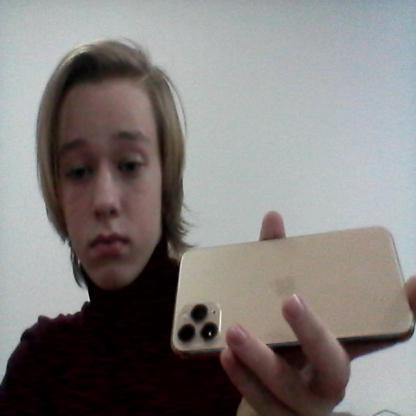phone: (166, 210, 409, 365)
